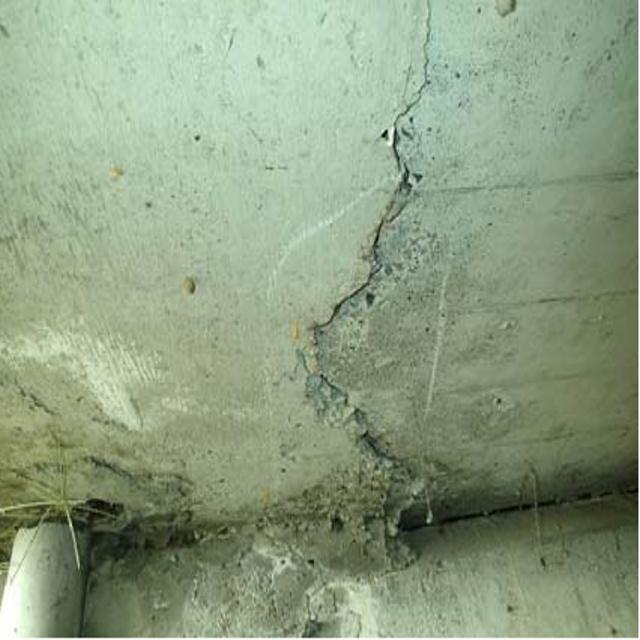crack: (296, 16, 457, 553)
